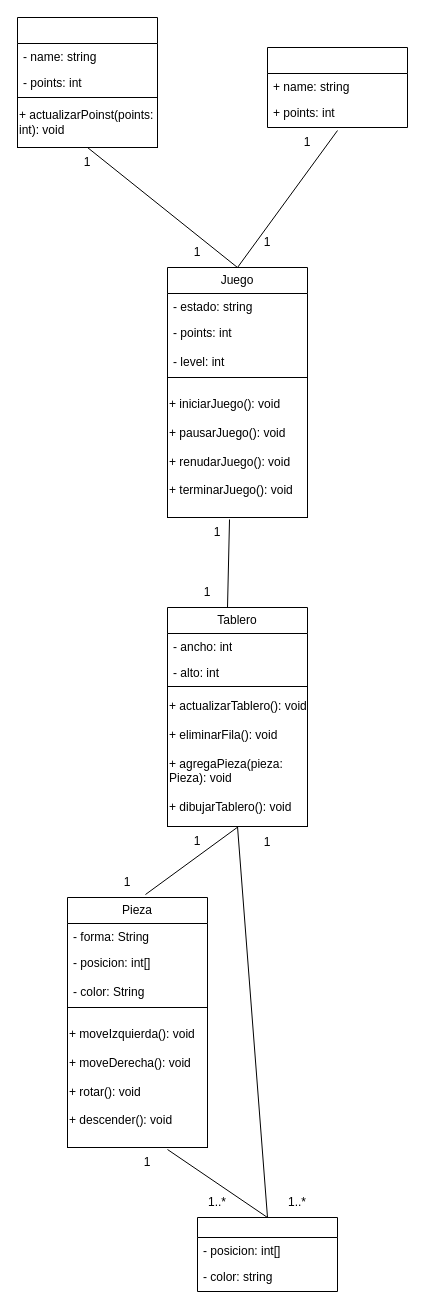
This 425x1312 diagram has some shape labels left out. The shapes that lost their labels are listed below. From the top down, each one's box as (x1, y1, x2, y2) in pixels, then its label:
(16, 16, 158, 98): Jugador
(266, 46, 408, 128): Controlador
(196, 1216, 338, 1292): Bloque
